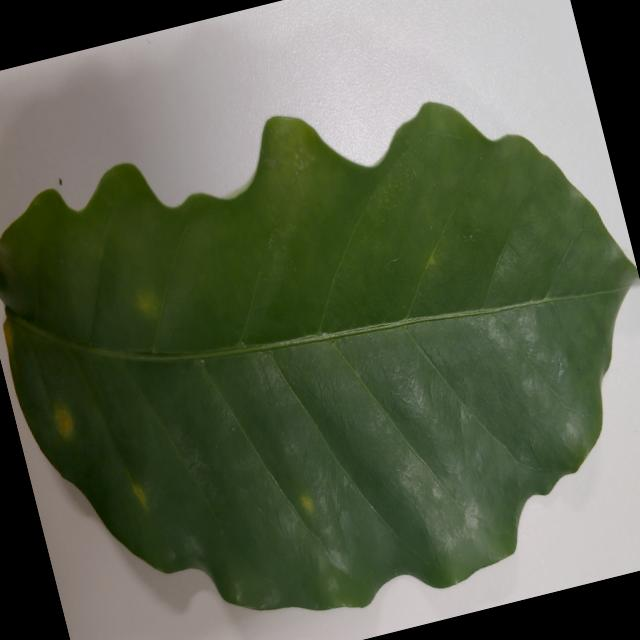KaratDaunKopi: (53, 404, 73, 438), (136, 291, 157, 317), (132, 483, 146, 506), (3, 321, 12, 353), (300, 495, 313, 513)
